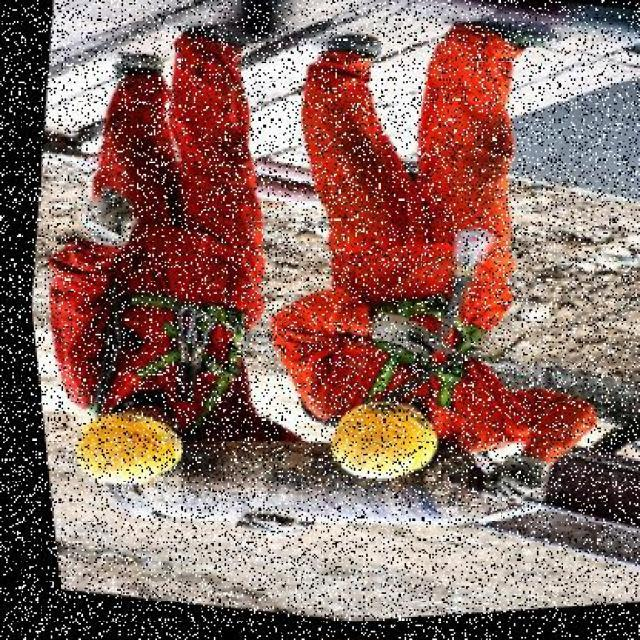helmet: (301, 383, 445, 499), (50, 392, 186, 504)
vest: (260, 213, 524, 432), (48, 181, 274, 431)
